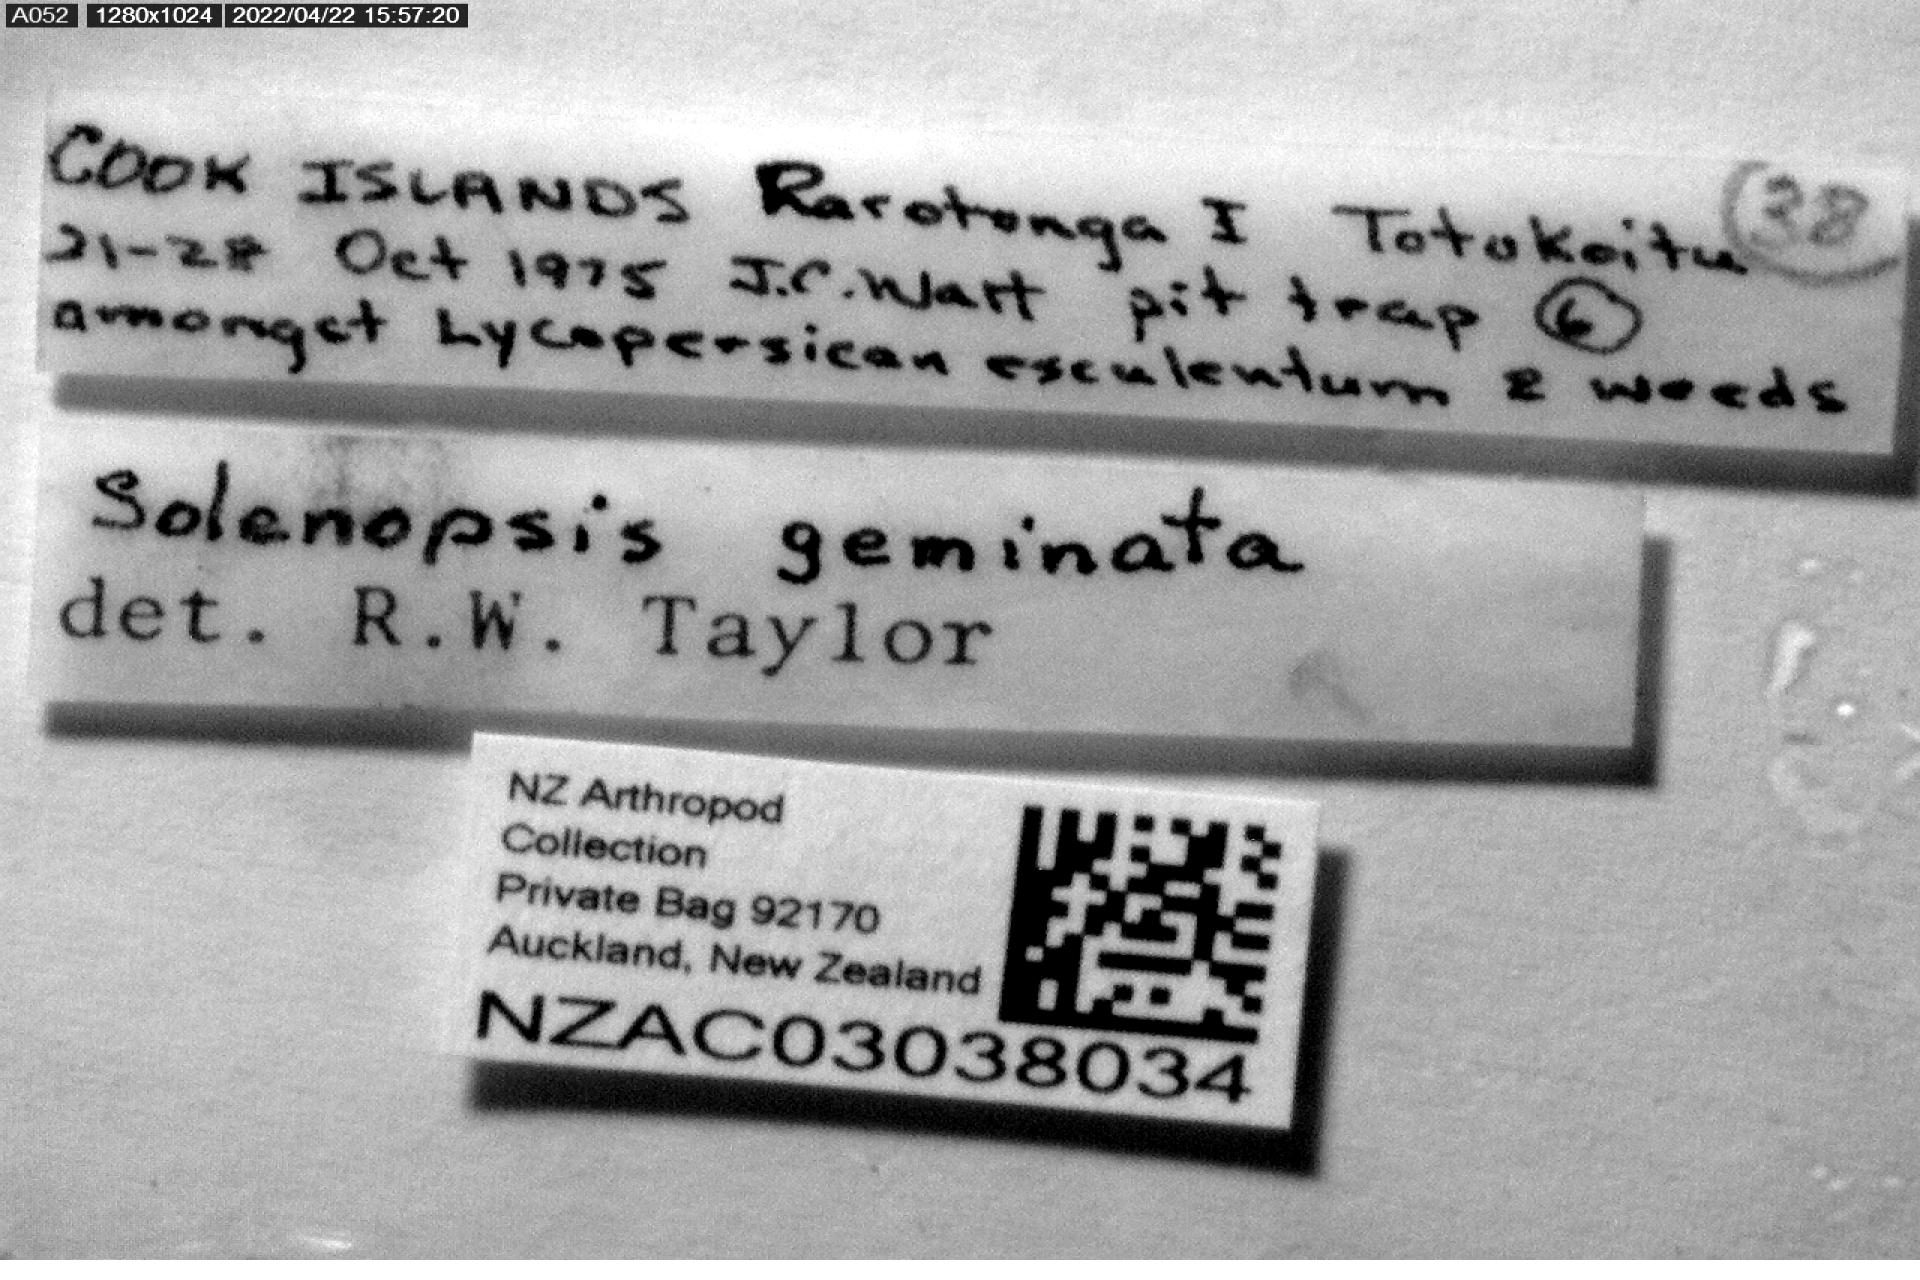hand_label: (41, 90, 1909, 460)
mixed_label: (30, 426, 1643, 753)
typed_label: (443, 734, 1320, 1129)
